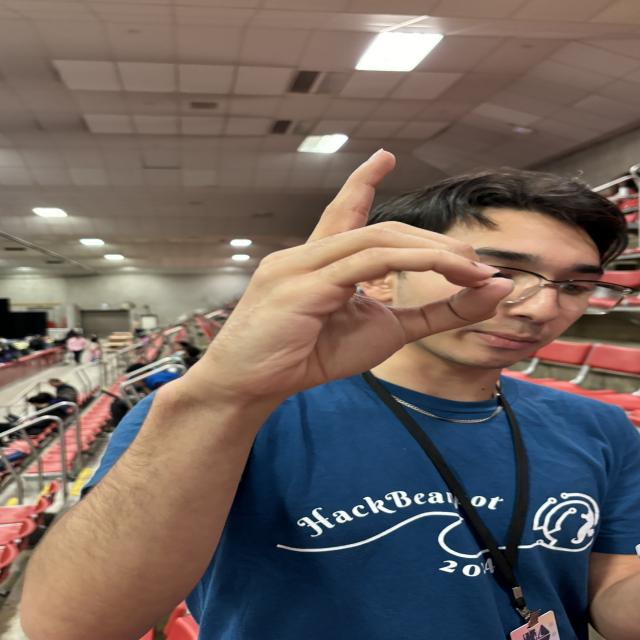D: (202, 141, 511, 366)
